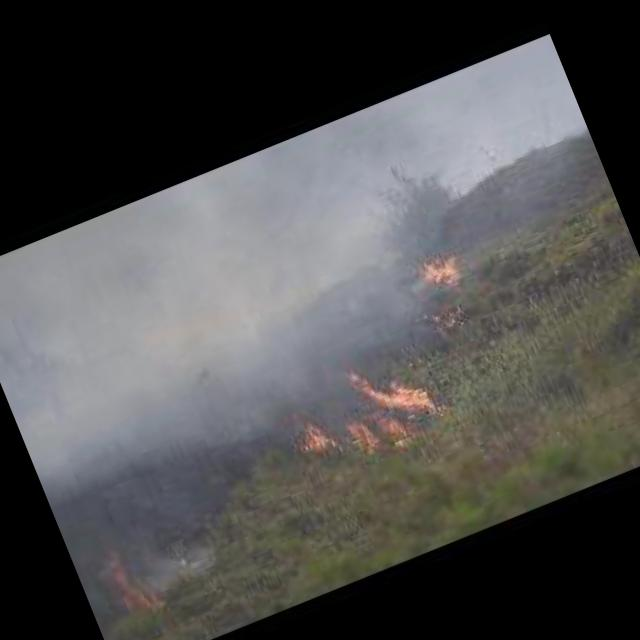fire: (350, 348, 433, 428), (90, 540, 163, 618), (342, 402, 412, 462), (284, 408, 336, 464), (418, 253, 459, 288)
